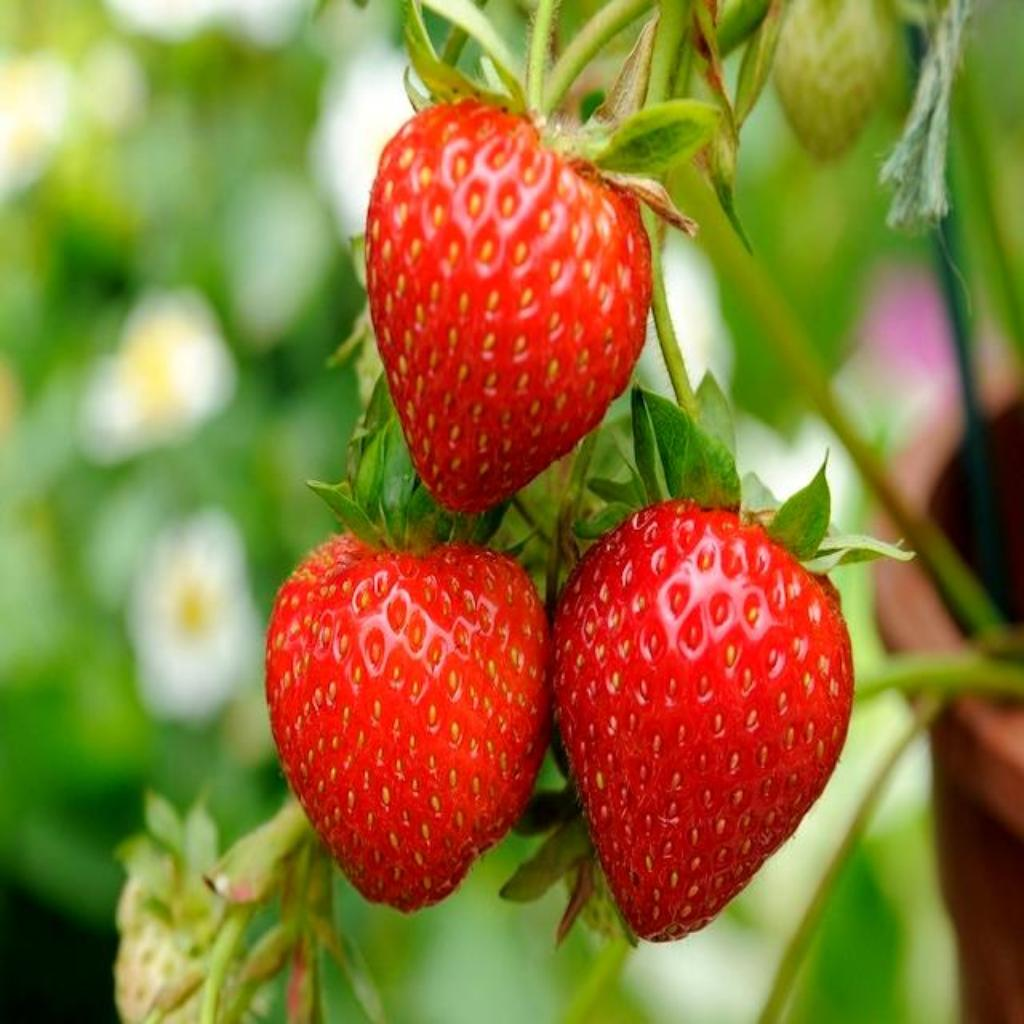strawberry: (554, 500, 854, 942), (366, 100, 652, 513), (266, 534, 550, 911)
